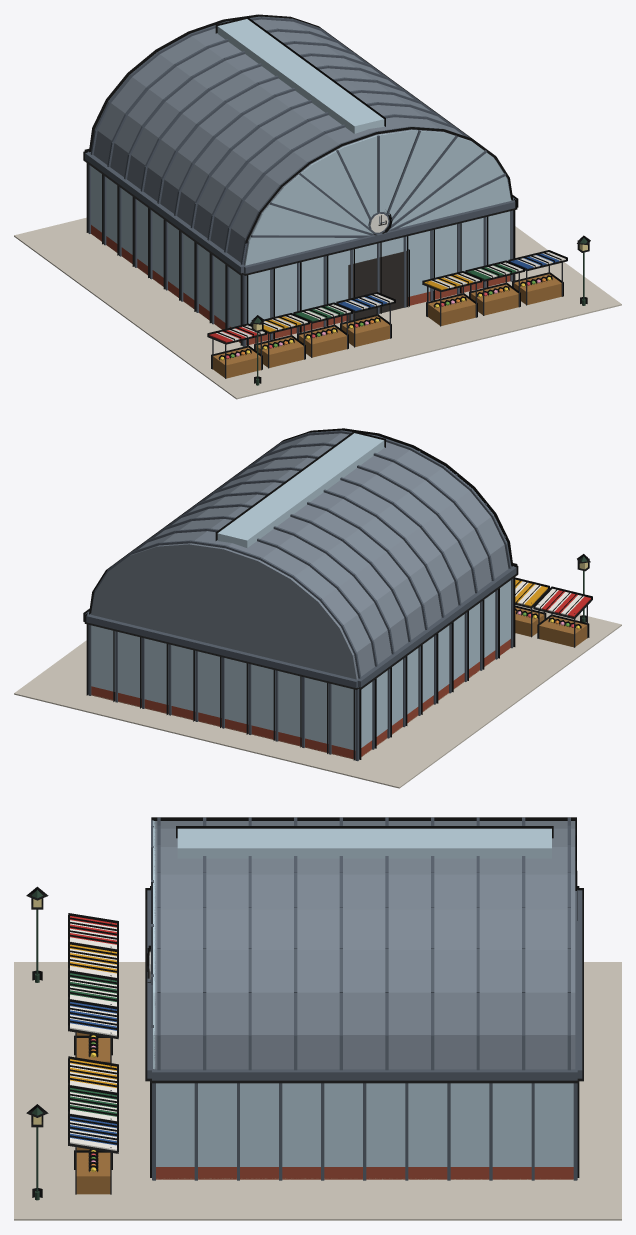
File: Simge_pazar_pavyonu.fbx
3 renders of one model, top to bottom at view 1: azimuth 30°, elevation 25°; view 2: azimuth 150°, elevation 25°; view 3: azimuth 270°, elevation 25°, orthographic. The views are drawn at different scales.
Visible parts, largest first — view 1: Simge_pazar_pavyonu; view 2: Simge_pazar_pavyonu; view 3: Simge_pazar_pavyonu.
Part boxes in pixels (box(x1,y1,x2,y2)): Simge_pazar_pavyonu: box(14, 14, 621, 399); Simge_pazar_pavyonu: box(14, 428, 621, 788); Simge_pazar_pavyonu: box(14, 817, 621, 1220).
Size of the model in its own units: 26 by 12.06 by 26.
